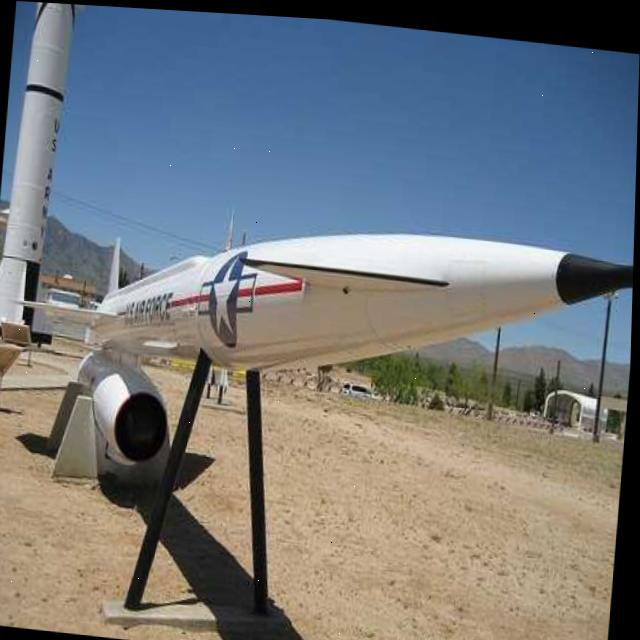missile: (16, 182, 636, 423), (2, 0, 83, 346)
